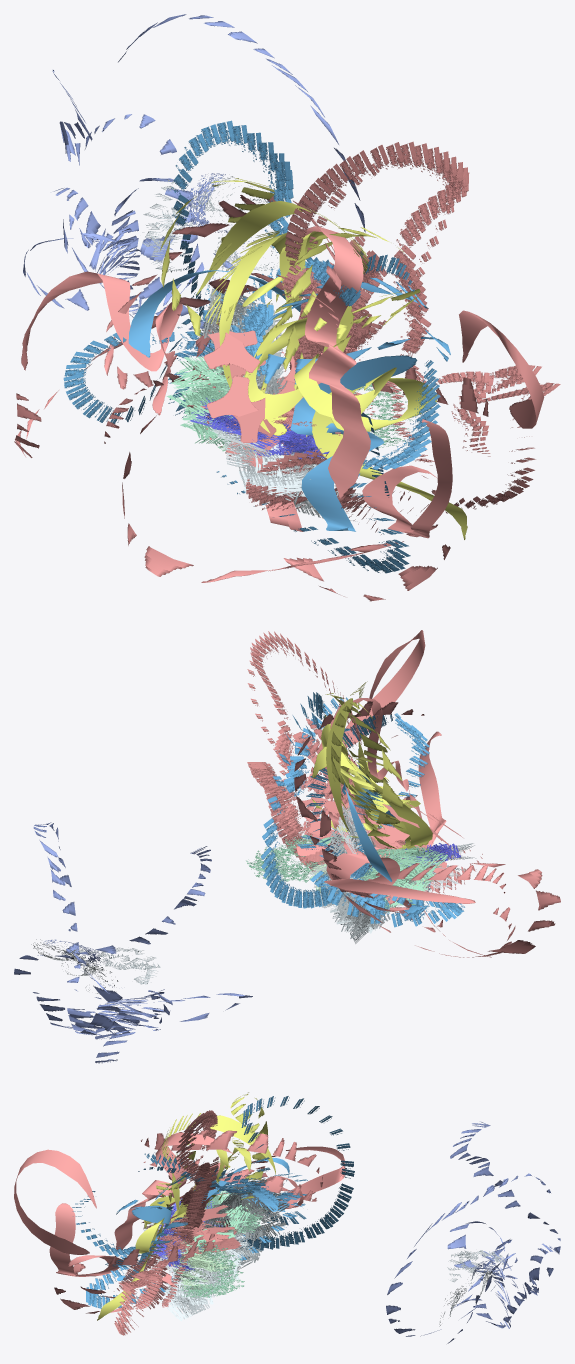
Rendered from a-painter-test.gltf.
The picture shows the model from 3 angles, top to bottom: view 1: azimuth 30°, elevation 25°; view 2: azimuth 150°, elevation 25°; view 3: azimuth 270°, elevation 25°; orthographic projection. The views are drawn at different scales.
Size of the model in its own units: 1.18 by 0.9405 by 1.99.
